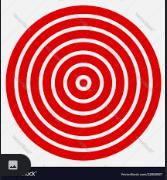bulls eye: (5, 5, 161, 155)
